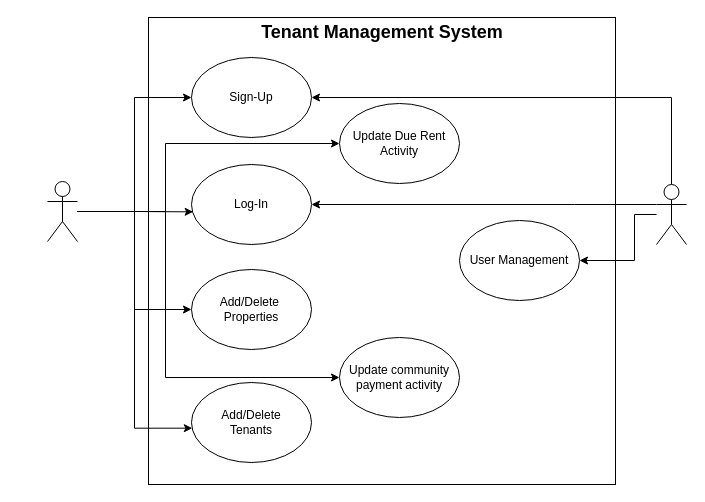
The diagram is 705 pixels wide and 502 high, and some of its shapes have lost their labels. Each missing label, with the box of its shape:
Admin: (656, 184, 686, 244)
Landlords/ Property Owners: (46, 180, 78, 242)
